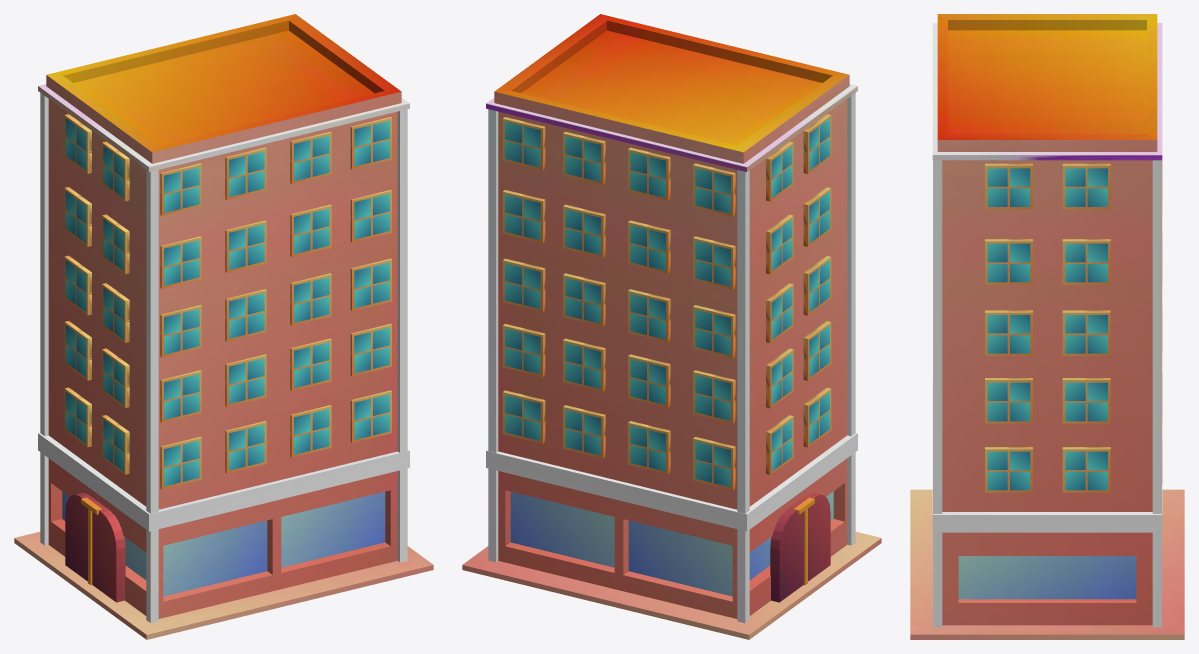
Rendered from House_9.glb.
The picture shows the model from 3 angles, left to right: view 1: azimuth 30°, elevation 25°; view 2: azimuth 150°, elevation 25°; view 3: azimuth 270°, elevation 25°; orthographic projection. The views are drawn at different scales.
Parts seen in each view (by area): view 1: House_9; view 2: House_9; view 3: House_9.
Boxes of the visible parts, x1,y1,x2,y2 form: House_9: (14,14,433,639); House_9: (462,14,881,639); House_9: (910,14,1184,639).
Bounding box in the file's own units: 1430 × 2254 × 1144.
1 material, 1 textured.
